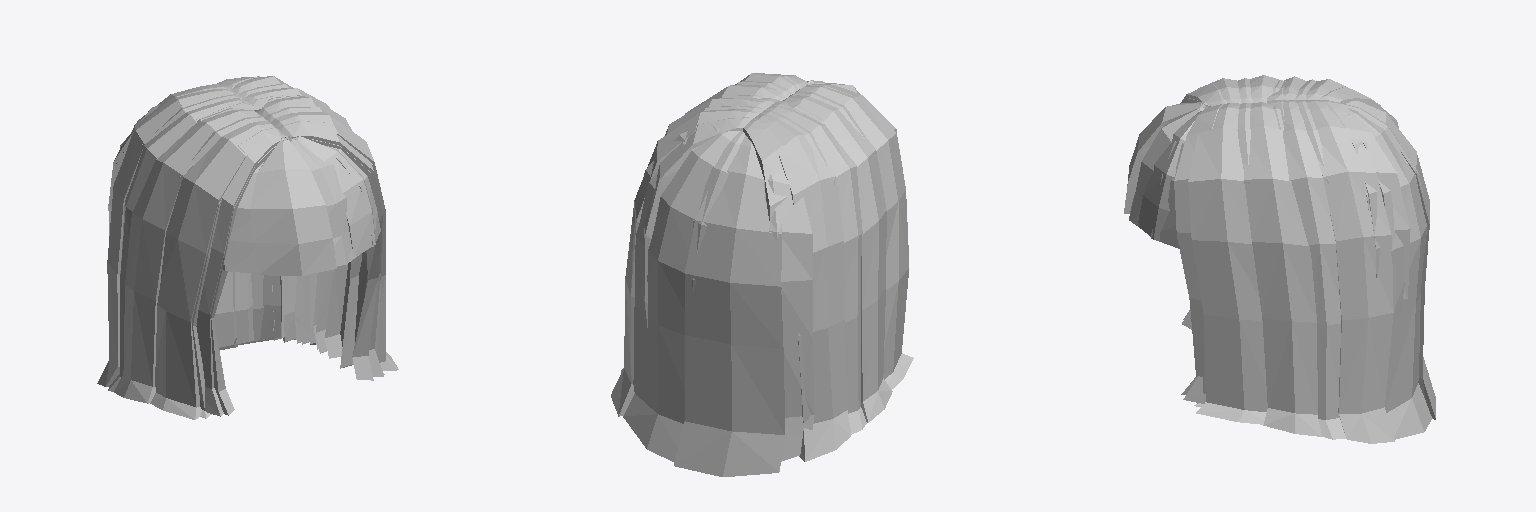
The picture shows the model from 3 angles: view 1: azimuth 30°, elevation 25°; view 2: azimuth 150°, elevation 25°; view 3: azimuth 270°, elevation 25°; orthographic projection.
Parts seen in each view (by area): view 1: T6_null; view 2: T6_null; view 3: T6_null.
Boxes of the visible parts, box(x1,y1,x2,y2) form: T6_null: box(97, 76, 398, 419); T6_null: box(611, 73, 913, 476); T6_null: box(1124, 75, 1435, 443).
Size of the model in its own units: 0.0839 by 0.1016 by 0.0913.